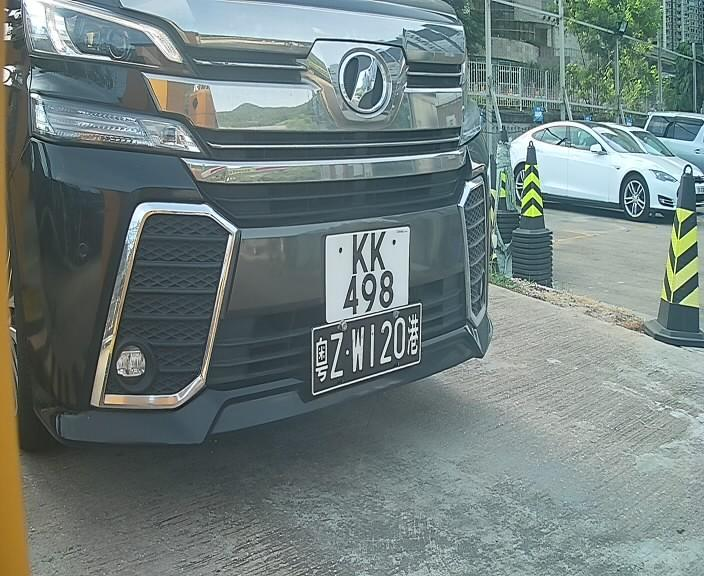privatecar: (4, 13, 522, 458)
